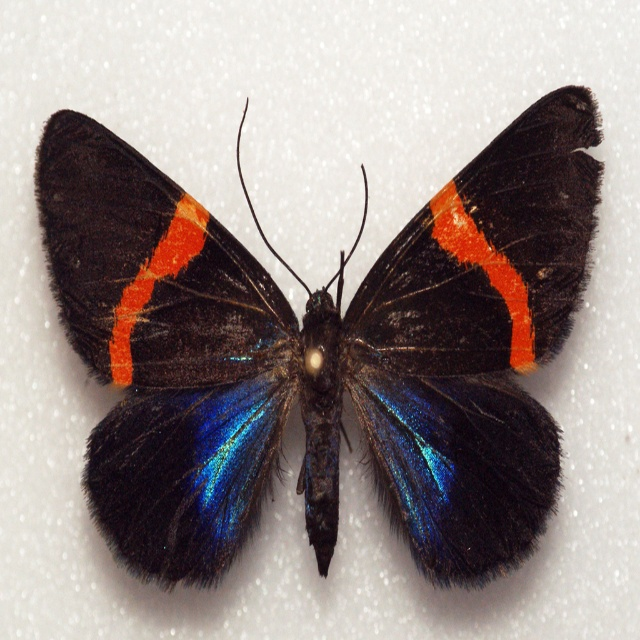Butterfly: (34, 83, 606, 591)
